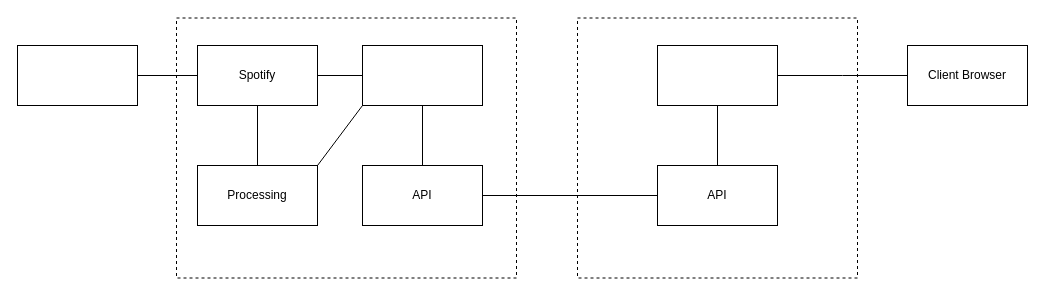
The diagram is 1045 pixels wide and 295 high, and some of its shapes have lost their labels. The shapes that lost their labels are listed below. From the top down, each one's centre as x and y in pixels, then its label:
At [77,75]: "Spotify API".
At [422,75]: "Database".
At [717,75]: "GUI".
